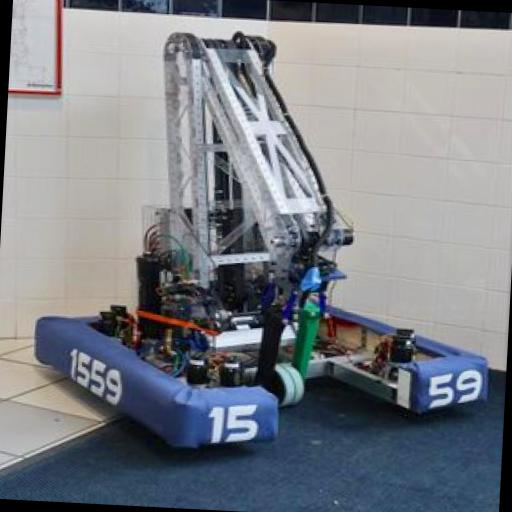robot: (30, 4, 511, 462)
